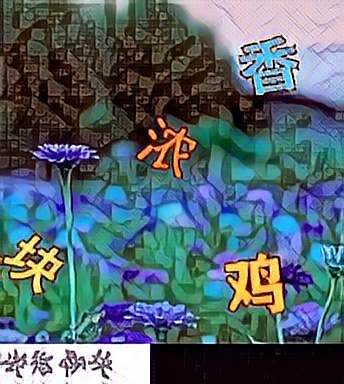BCA6: (224, 252, 287, 318)
BFE9: (4, 235, 67, 301)
C5A8: (136, 114, 199, 180)
CFE3: (238, 31, 301, 97)
